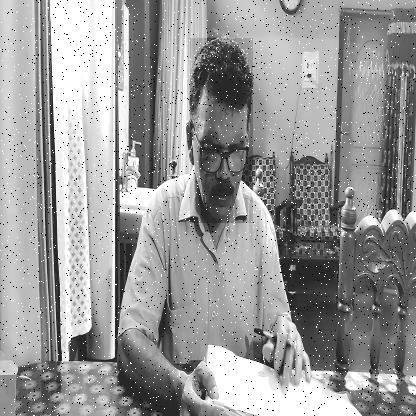Normal: (190, 38, 253, 223)
